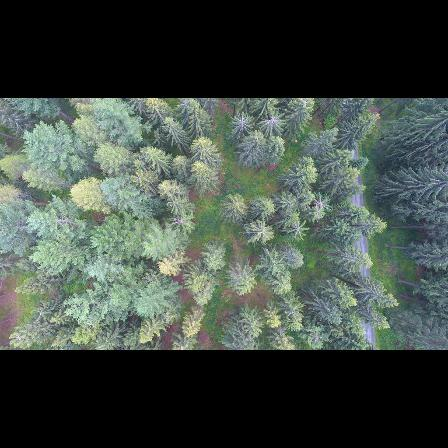Sick: (231, 108, 253, 143), (260, 111, 285, 136), (282, 302, 303, 327), (287, 220, 308, 242), (170, 213, 191, 234), (28, 304, 50, 324)
